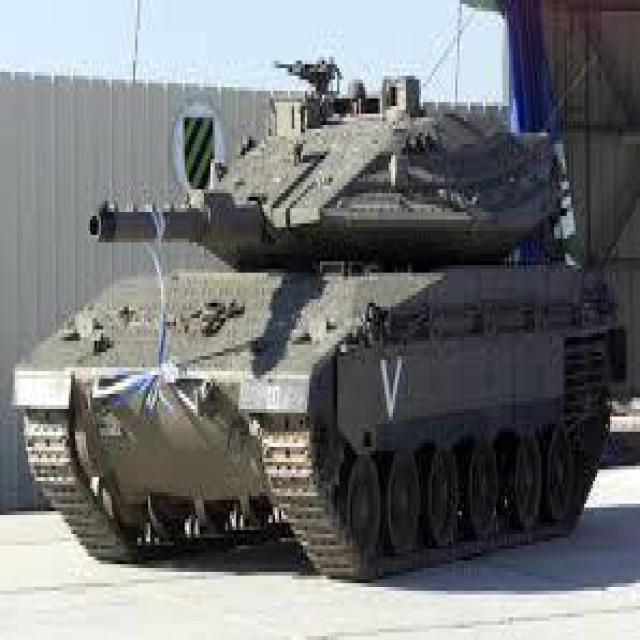MIL_MBT: (6, 44, 636, 600)
